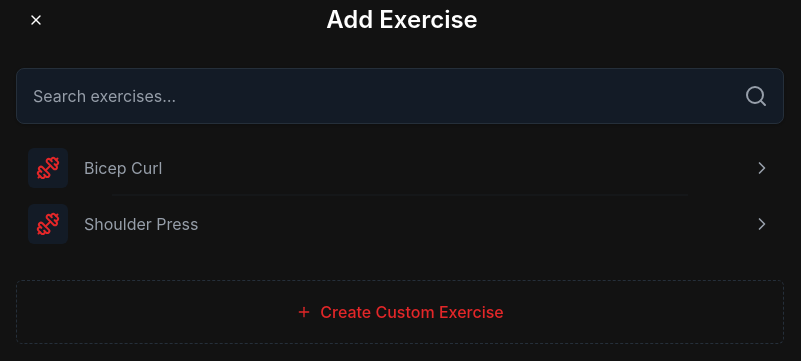
filters available exercises by name
This screenshot has width=801, height=361.
Expected: the text "Bicep Curl" is shown, [84, 158, 162, 178]
Expected: the text "Shoulder Press" is shown, [84, 214, 198, 234]
Type "shoulder" into the search field labelled "Search exercises".
click(400, 96); type("shoulder")  # box [16, 68, 784, 124]
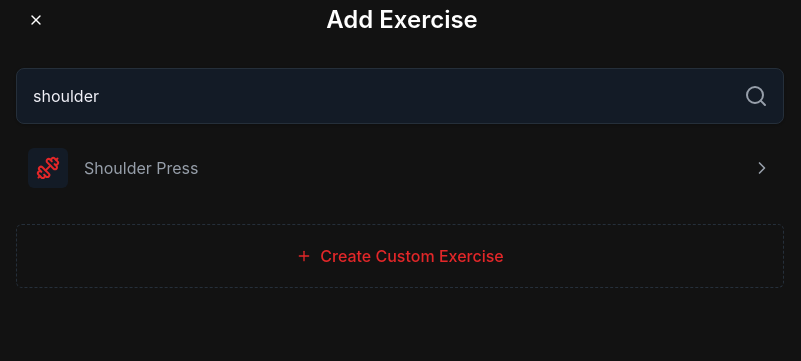
Expected: the text "Shoulder Press" is shown, [84, 158, 198, 178]
Now the link "Bicep Curl" is gone
